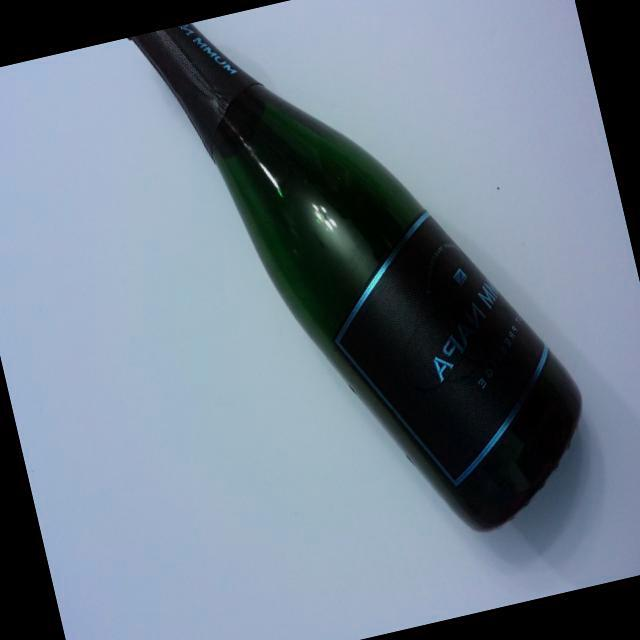glass: (116, 0, 617, 606)
